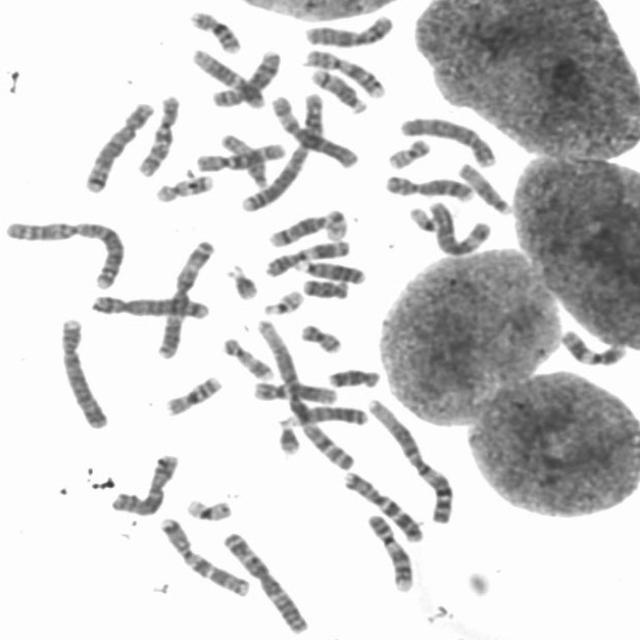A1: (249, 314, 357, 474), (364, 395, 456, 523)
A2: (238, 88, 326, 214), (0, 213, 127, 290)
A3: (218, 528, 310, 634), (153, 236, 217, 360)
B4: (55, 314, 110, 431), (396, 114, 497, 168)
B5: (81, 98, 155, 196), (86, 290, 210, 320)
C10: (132, 92, 182, 178), (193, 138, 289, 174)
C11: (260, 236, 353, 278), (556, 326, 630, 367)
C12: (188, 44, 267, 110), (249, 378, 338, 406)
C6: (268, 92, 362, 170), (429, 197, 495, 257)
C7: (155, 515, 252, 598), (339, 467, 426, 545)
C8: (206, 46, 283, 109), (380, 171, 474, 203)
C9: (300, 45, 386, 99), (364, 510, 414, 593)
D13: (276, 402, 372, 430), (294, 257, 366, 286)
D14: (305, 64, 368, 115), (264, 209, 333, 249)
D15: (454, 158, 514, 216), (217, 130, 270, 190)
E16: (161, 371, 225, 418), (187, 8, 243, 54)
E17: (218, 333, 276, 381), (150, 169, 215, 205)
E18: (324, 364, 382, 389), (298, 276, 350, 300)
F19: (182, 494, 234, 522), (405, 204, 441, 234)
F20: (296, 319, 345, 355), (385, 135, 434, 170)
G21: (225, 262, 260, 302), (275, 417, 302, 457)
G22: (258, 286, 306, 316), (322, 205, 349, 241)
X: (106, 448, 182, 518), (301, 13, 397, 48)
